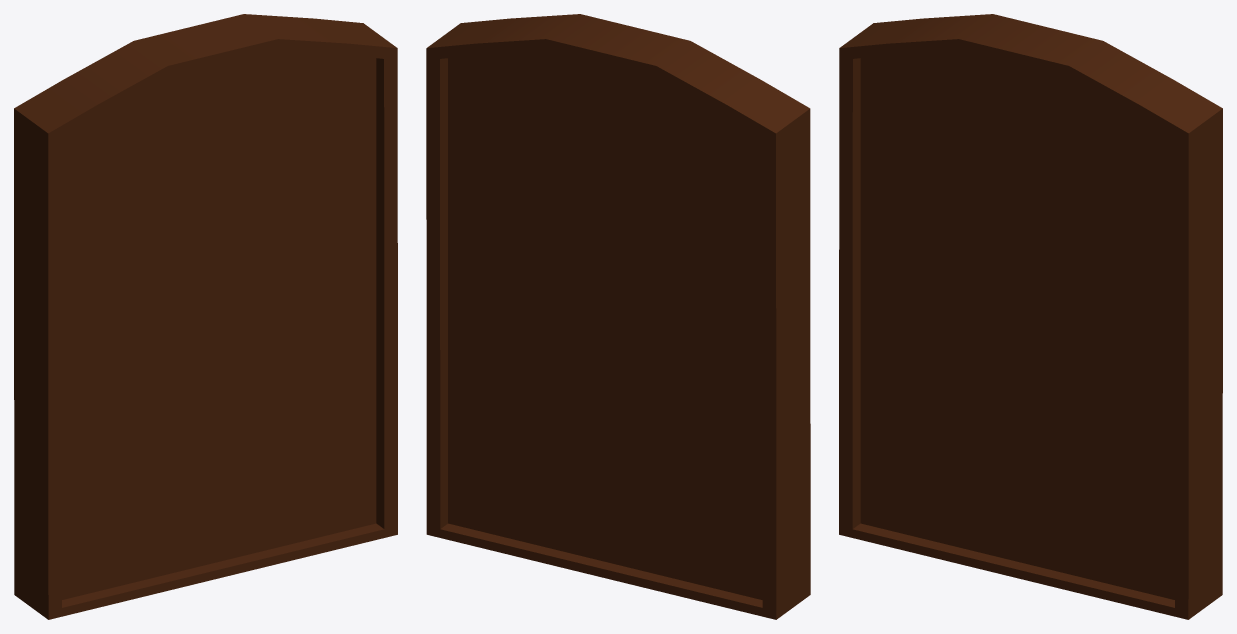
File: Gate_01.fbx
3 views of the same model, side by side, from view 1: azimuth 30°, elevation 25°; view 2: azimuth 150°, elevation 25°; view 3: azimuth 330°, elevation 25° (orthographic).
Visible parts, largest first — view 1: Gate_01; view 2: Gate_01; view 3: Gate_01.
Part boxes in pixels (x1,y1,x2,y2): Gate_01: [14, 14, 397, 619]; Gate_01: [426, 14, 810, 619]; Gate_01: [839, 14, 1222, 619].
Bounding box in the file's own units: 11.98 × 17.18 × 2.05.
